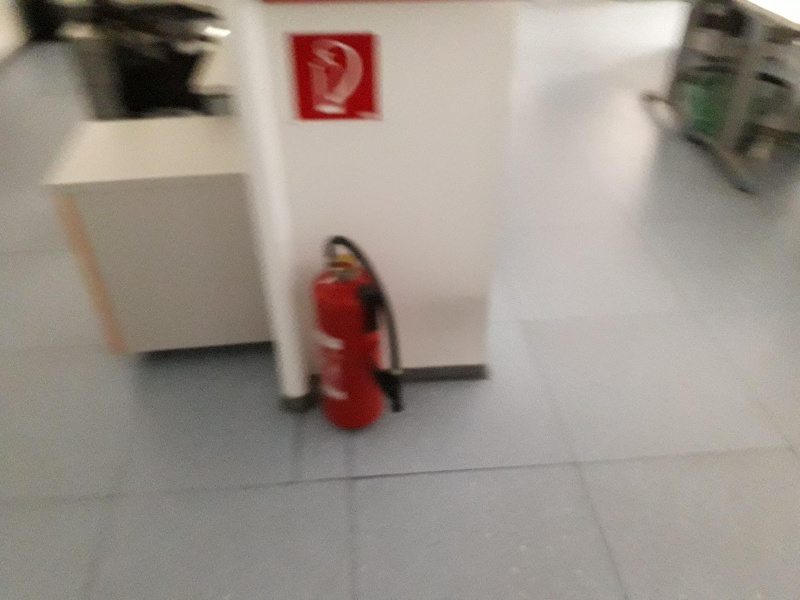vataparat: (315, 238, 404, 431)
